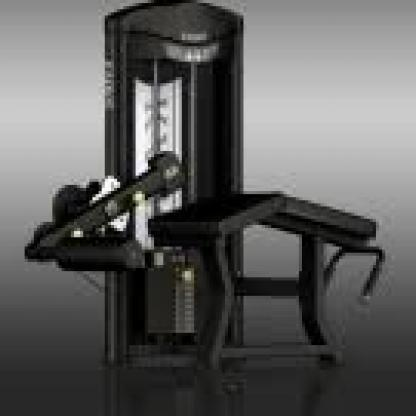reg curl machine: (24, 1, 387, 387)
